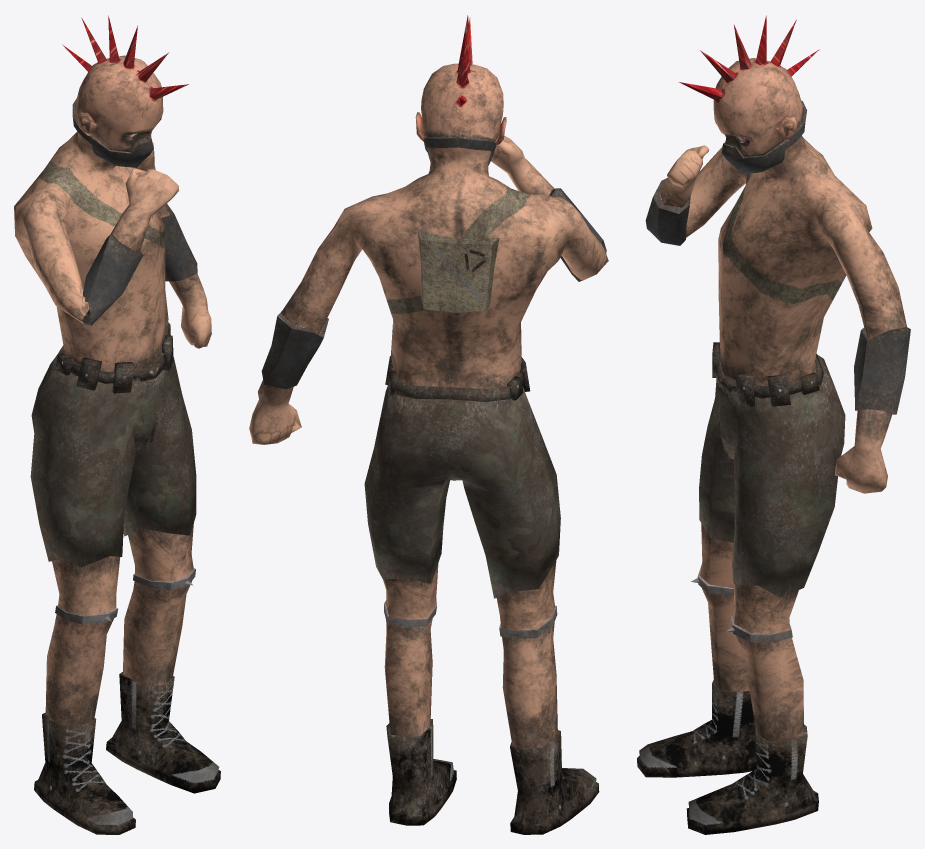
The model's file is Anim_perder_1_npc2.0031.obj.
The picture shows the model from 3 angles, left to right: view 1: azimuth 30°, elevation 25°; view 2: azimuth 150°, elevation 25°; view 3: azimuth 270°, elevation 25°; orthographic projection. The views are drawn at different scales.
Parts seen in each view (by area): view 1: polySurface1; view 2: polySurface1; view 3: polySurface1.
Boxes of the visible parts, bbox=[...] form: polySurface1: bbox=[14, 15, 220, 834]; polySurface1: bbox=[249, 15, 608, 834]; polySurface1: bbox=[637, 15, 910, 834].
Size of the model in its own units: 3.43 by 10.04 by 3.19.
